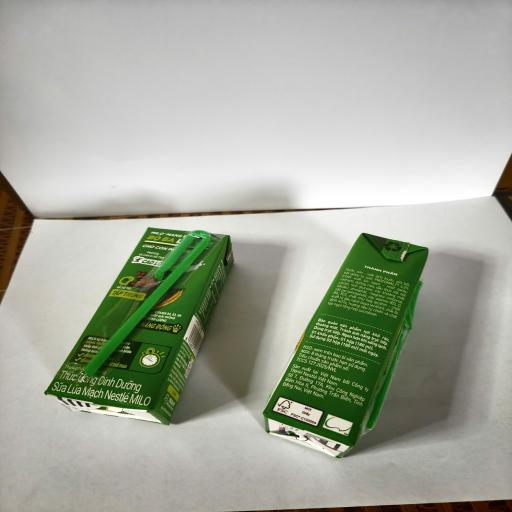milo: (44, 227, 234, 425), (263, 232, 429, 458)
